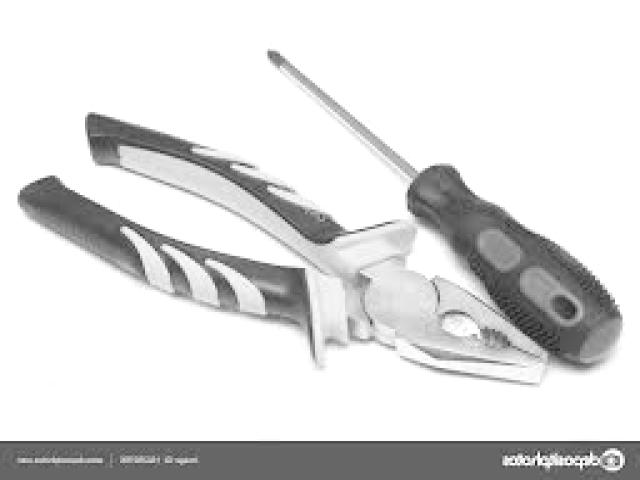Pliers: (20, 115, 546, 383)
Screwdriver: (269, 50, 622, 364)
